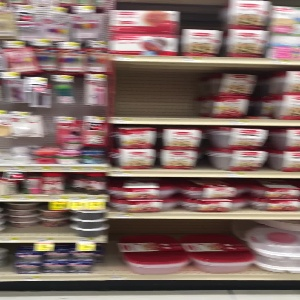void: (114, 63, 217, 120)
